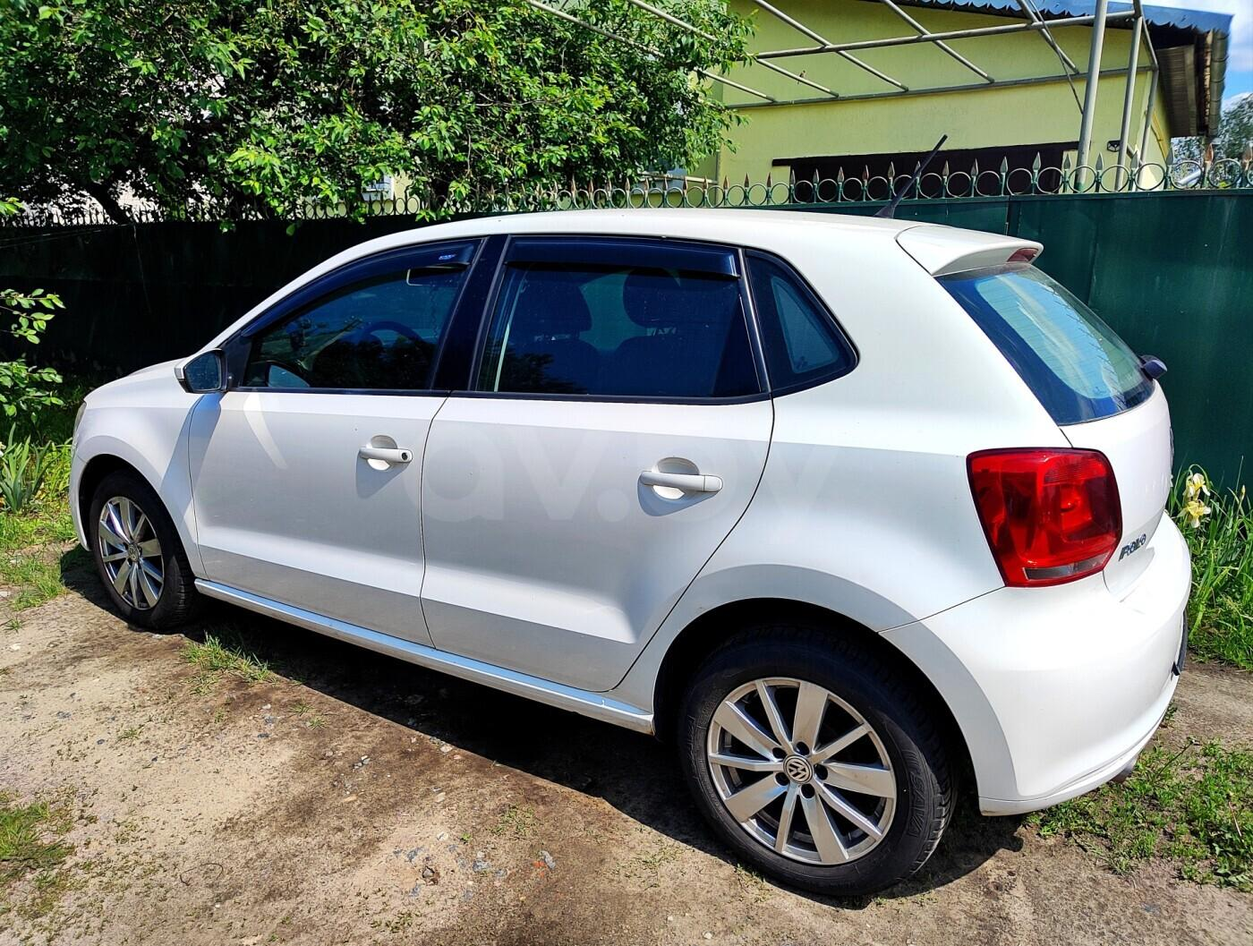Polo_2009-2015: (48, 195, 1219, 892)
